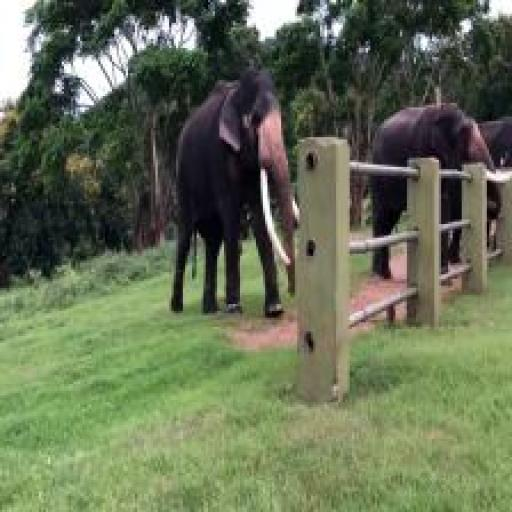Elephant: (169, 62, 306, 330), (364, 87, 500, 289)
